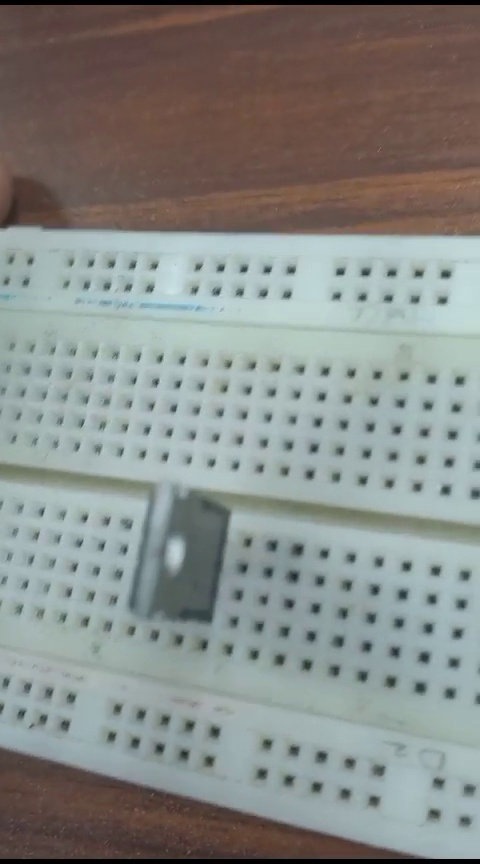voltage regulator: (118, 471, 233, 627)
